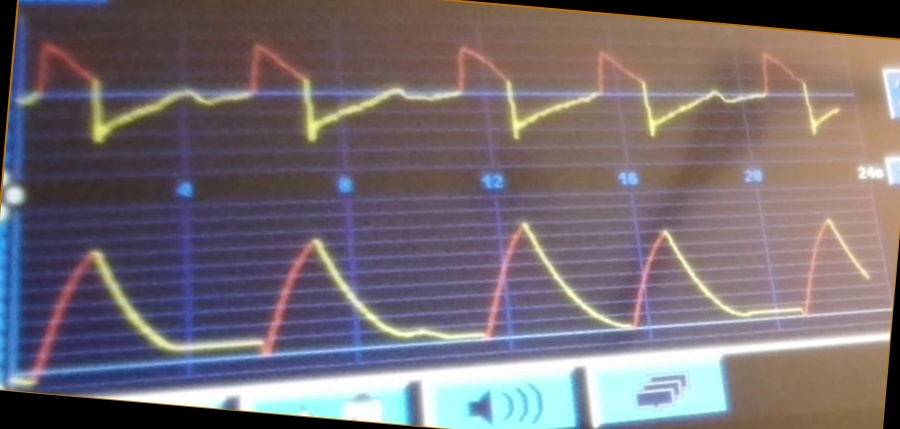Ineffective_effort Flow: (30, 36, 842, 147)
Ineffective_effort Volume: (20, 212, 875, 360)
